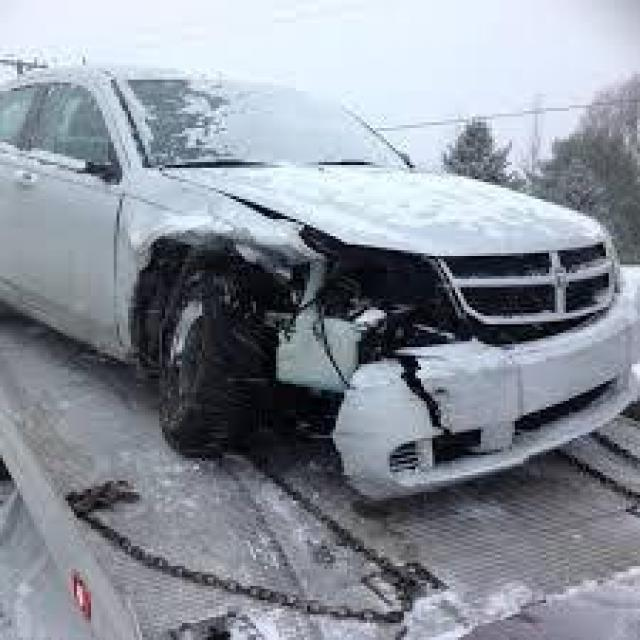damaged: (128, 179, 470, 481)
